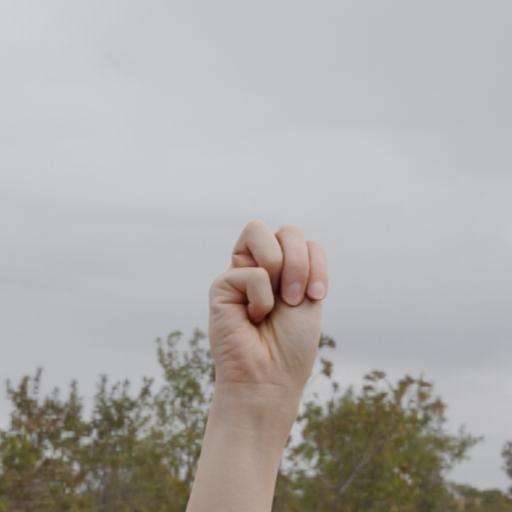M: (201, 214, 341, 418)
